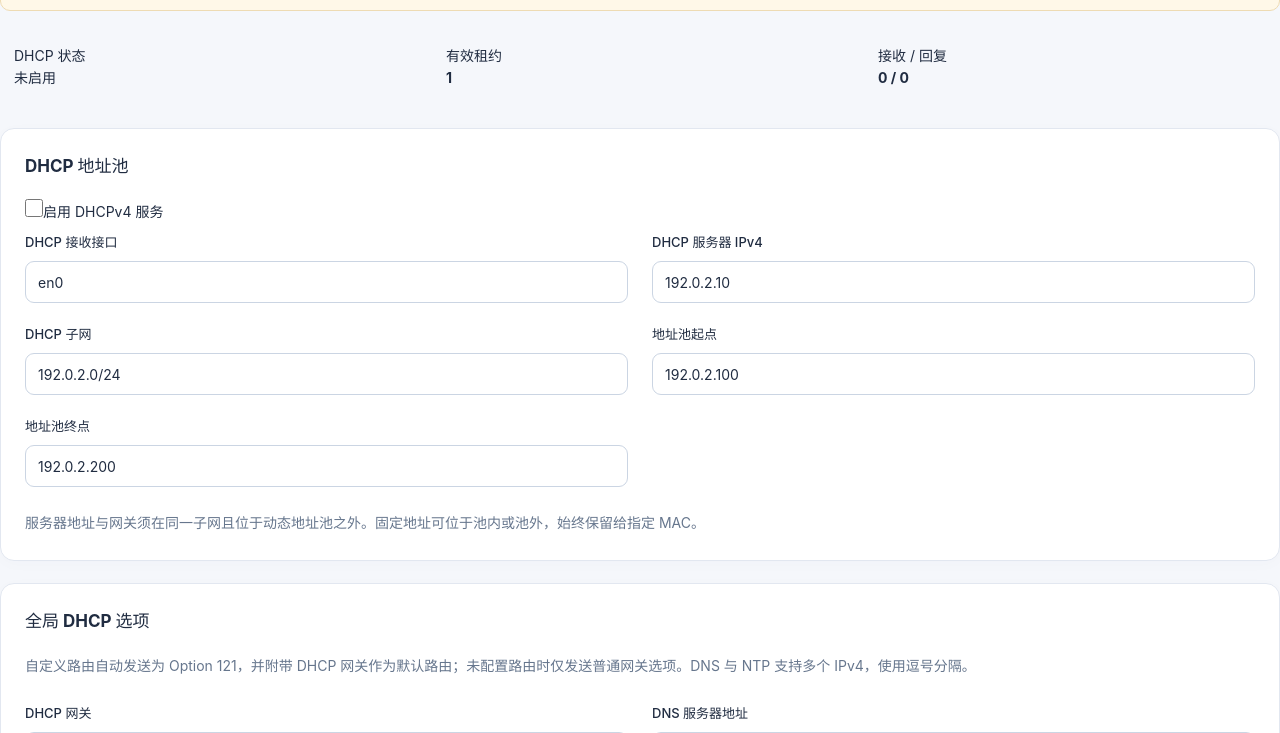
Test: edits device properties from the lease list without saving an unrelated global draft
The width and height of the screenshot is (1280, 733).
Replace the text in the field labelled "DHCP 服务器 IPv4" with "192.0.2.20" at x=954, y=282, box top-left (652, 261), bottom-right (1255, 303)
(page scrolled)
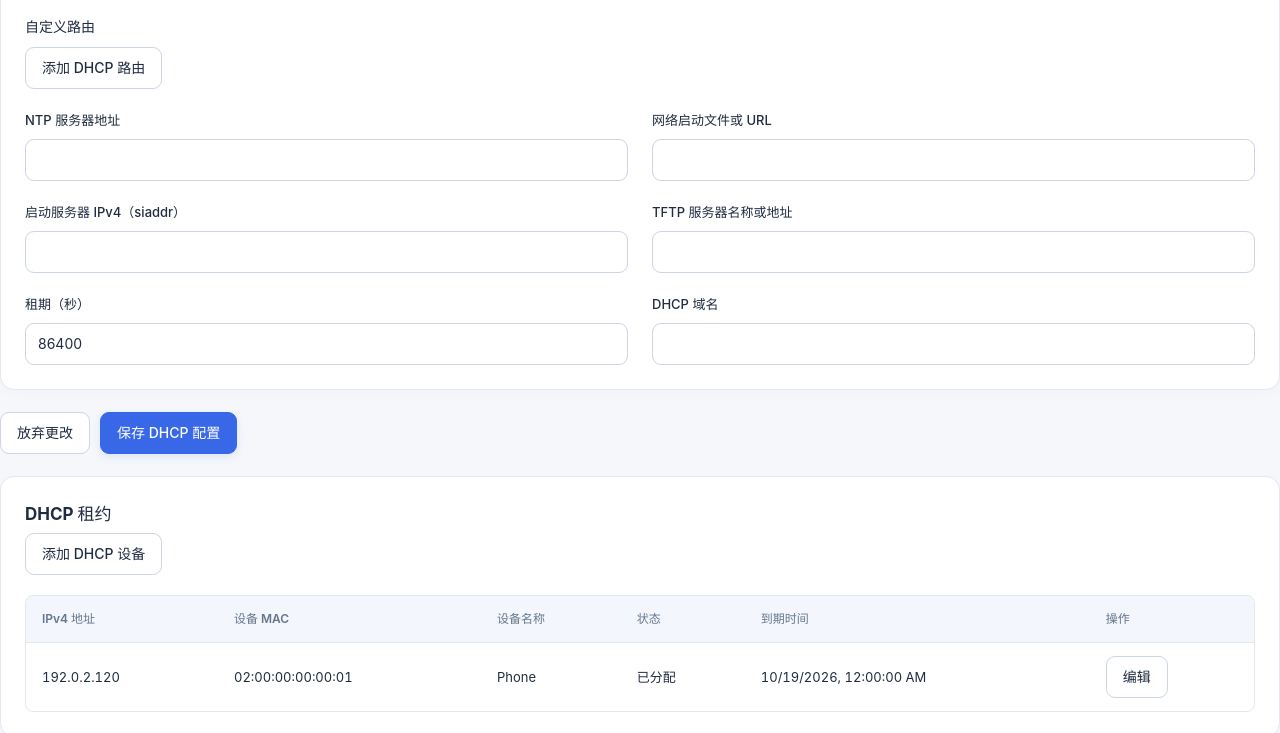
Click the button with aria-label "编辑 DHCP 设备 02:00:00:00:00:01".
click(1137, 677)  # box top-left (1106, 656), bottom-right (1168, 698)
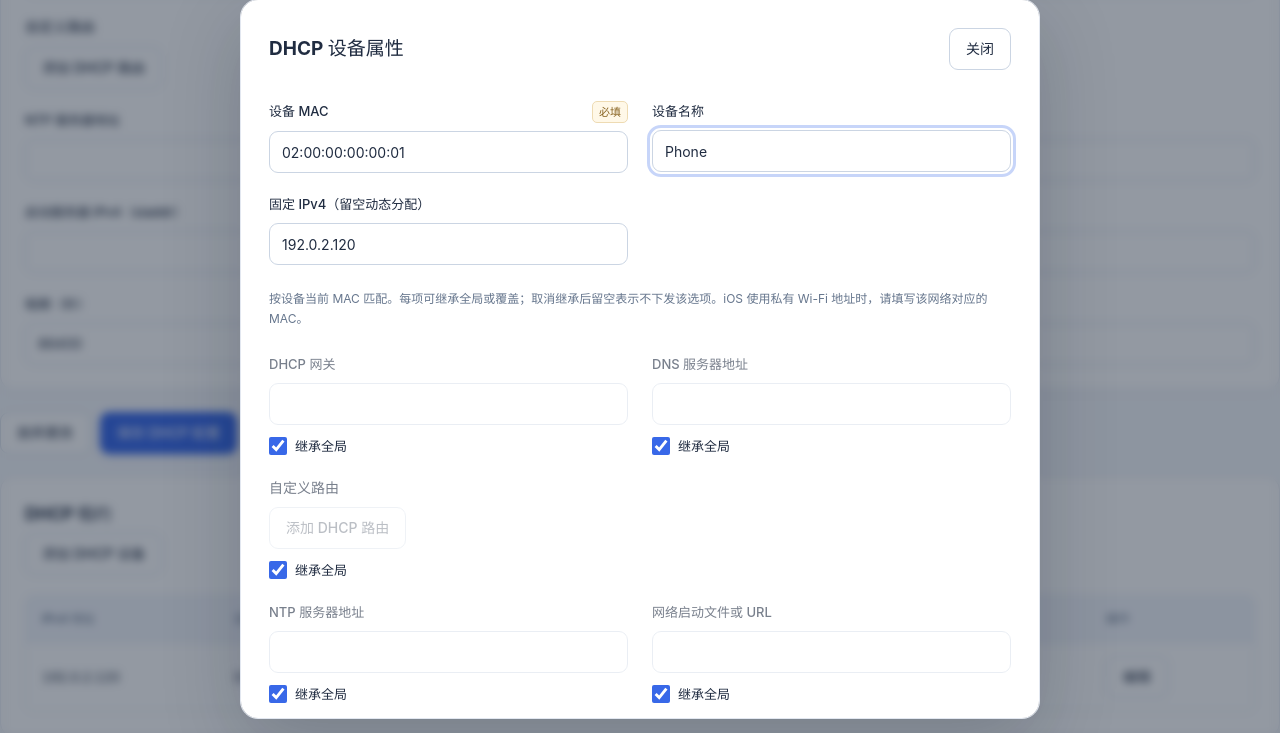
Replace the text in the field labelled "设备名称" with "My iPhone" at x=832, y=151, box top-left (652, 130), bottom-right (1011, 172)
(page scrolled)
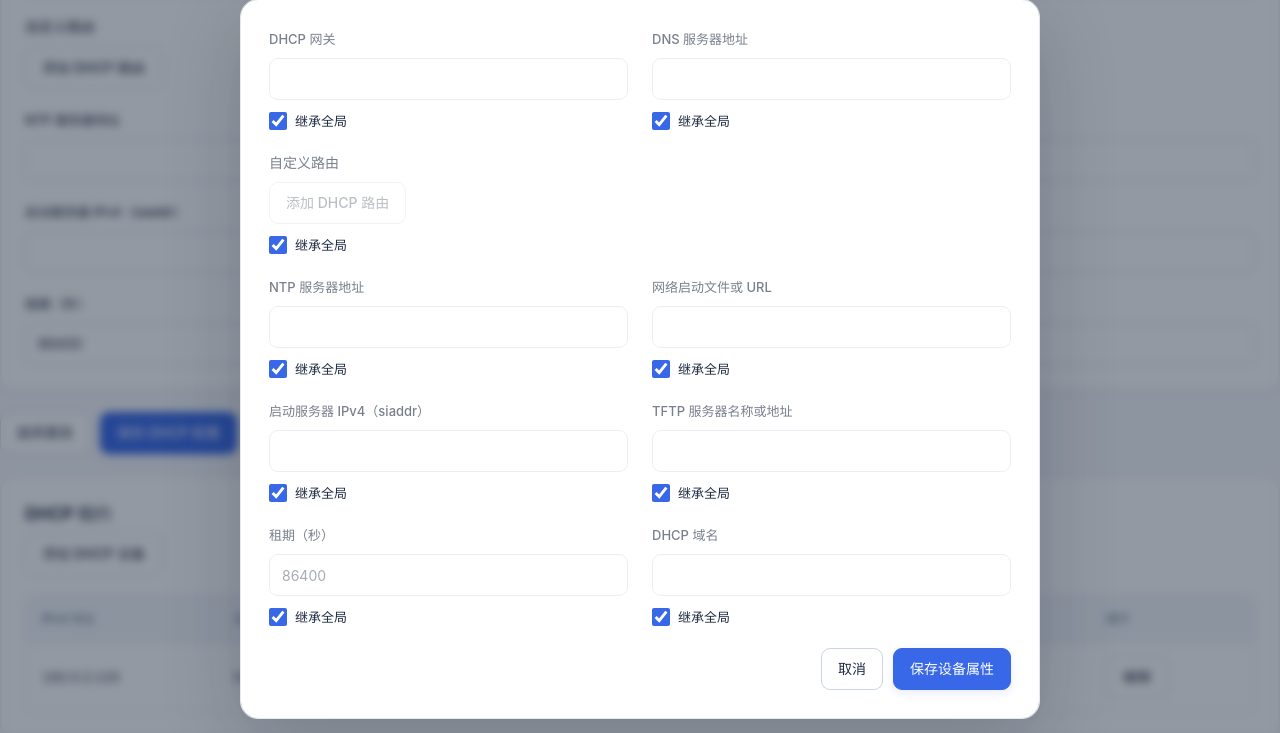
Click the button "保存设备属性".
click(952, 669)  # box top-left (893, 648), bottom-right (1011, 690)
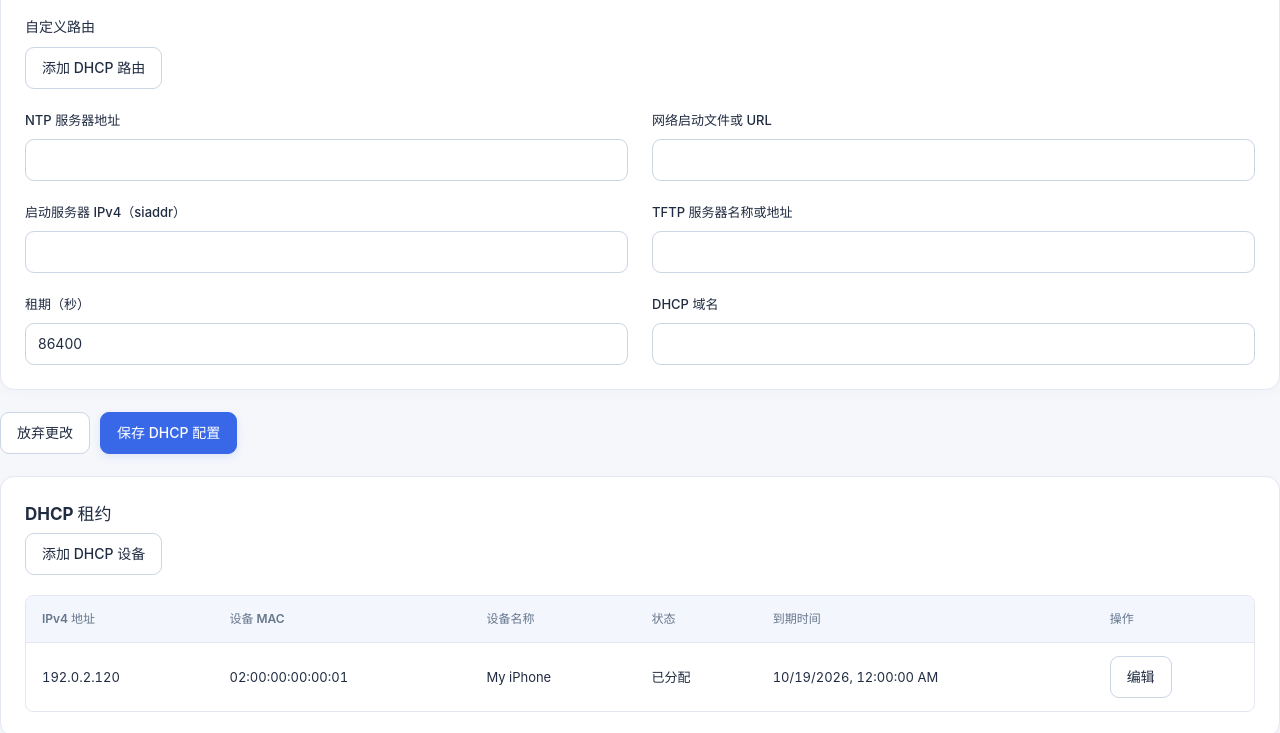
Now the text "My iPhone" is shown, box top-left (486, 669), bottom-right (551, 685)
